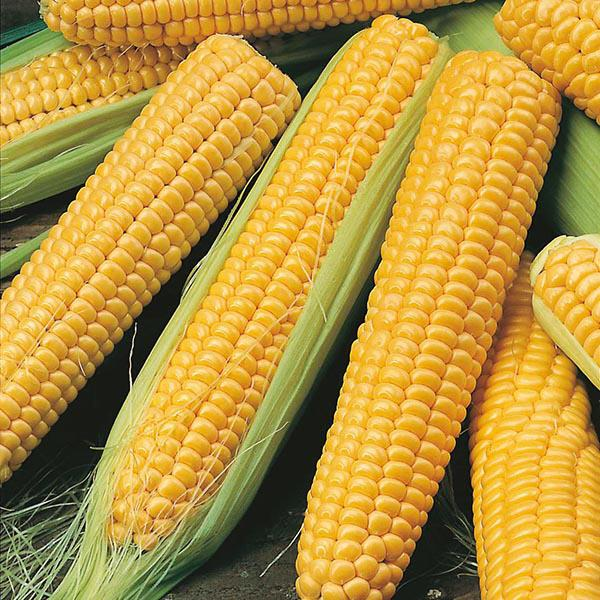sweetcorn: (102, 11, 440, 556), (292, 46, 563, 599), (0, 29, 302, 492), (468, 242, 599, 599), (35, 0, 520, 48), (0, 39, 188, 148), (492, 0, 599, 137), (528, 230, 599, 408)
